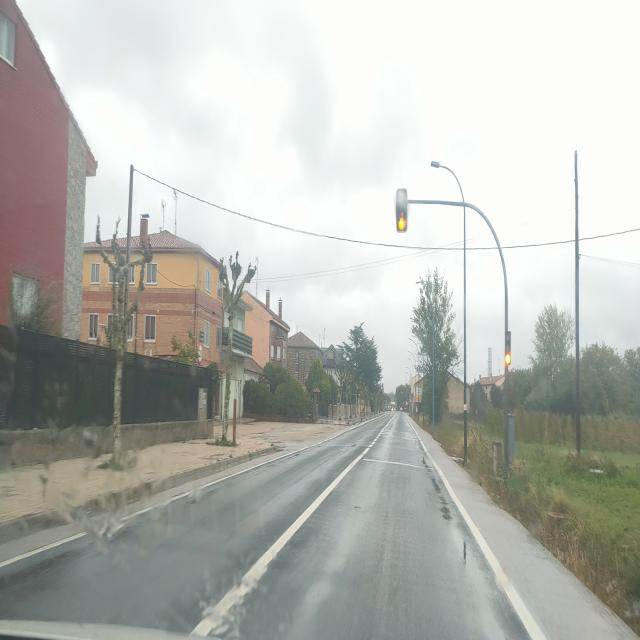Poth-hole: (418, 446, 518, 640)
